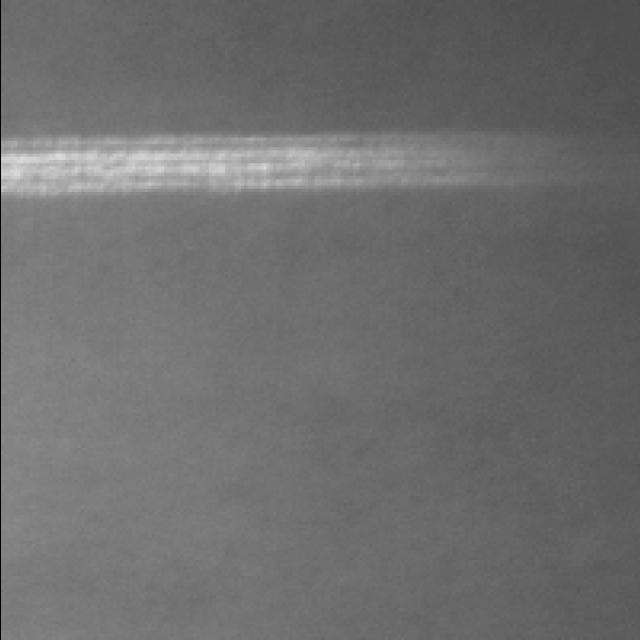scratches: (0, 134, 608, 196)
